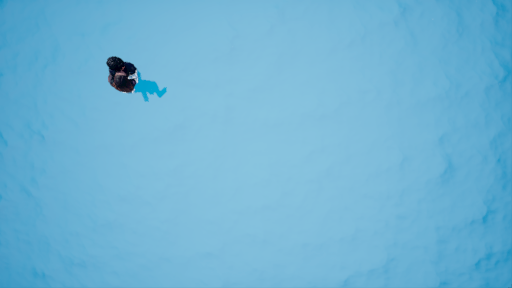person: (103, 56, 171, 109)
